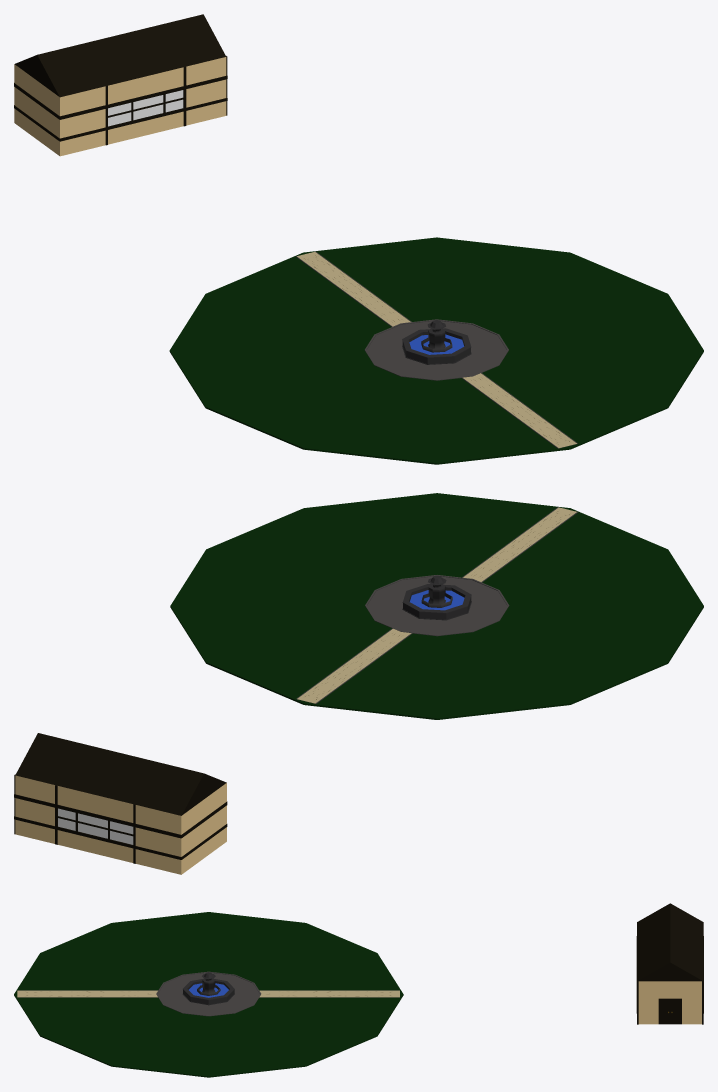
The model's file is aldea.fbx.
3 views of the same model, one above another, from view 1: azimuth 30°, elevation 25°; view 2: azimuth 150°, elevation 25°; view 3: azimuth 270°, elevation 25° (orthographic). The views are drawn at different scales.
Parts seen in each view (by area): view 1: FloorCenter, House, Road, Fountain; view 2: FloorCenter, House, Road, Fountain; view 3: FloorCenter, House, Road, Fountain.
Boxes of the visible parts, x1,y1,x2,y2 form: FloorCenter: [169, 237, 703, 464]; House: [14, 14, 227, 156]; Road: [295, 251, 577, 448]; Fountain: [402, 320, 471, 364]; FloorCenter: [170, 493, 703, 719]; House: [14, 733, 227, 874]; Road: [296, 507, 577, 703]; Fountain: [402, 575, 471, 620]; FloorCenter: [14, 912, 403, 1077]; House: [636, 903, 703, 1024]; Road: [17, 990, 399, 997]; Fountain: [182, 972, 234, 1005].
Bounding box in the file's own units: 4962 × 881 × 8788.
4 materials, 4 textured.
